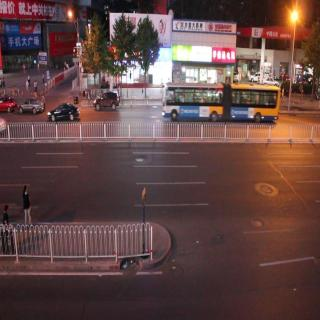BigCar: (164, 80, 280, 123)
Car: (49, 102, 80, 125), (19, 96, 44, 116), (94, 91, 120, 110)
